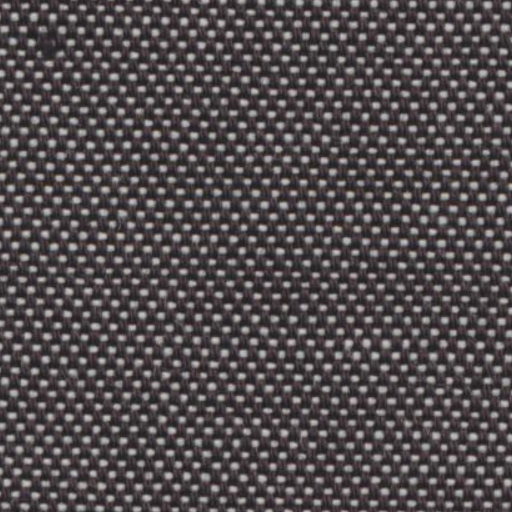MianQiu: (24, 22, 88, 78)
